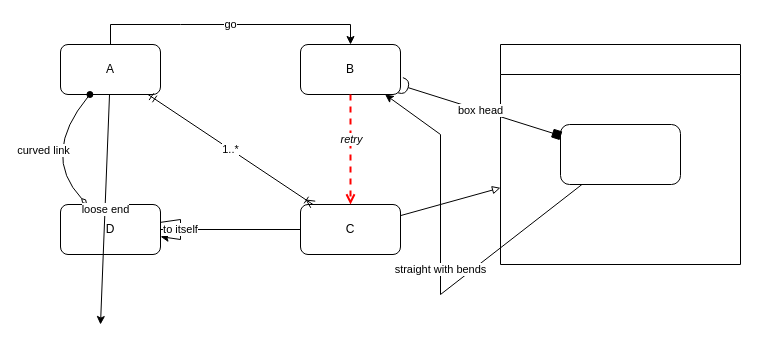
The diagram is 759 pixels wide and 350 high, and some of its shapes have lost their labels. Here are the shapes that lost their labels. From the top down, the box of each, then its label:
(560, 124, 680, 184): Inside
(500, 44, 740, 264): Zone
